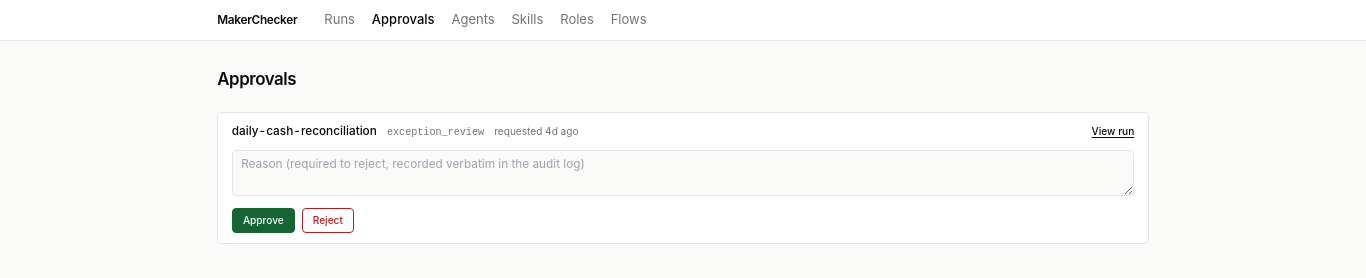
Scenario: ApprovalsPage › refuses to reject without a reason
Click the button "Reject".
click(328, 220)  # box [302, 208, 354, 233]
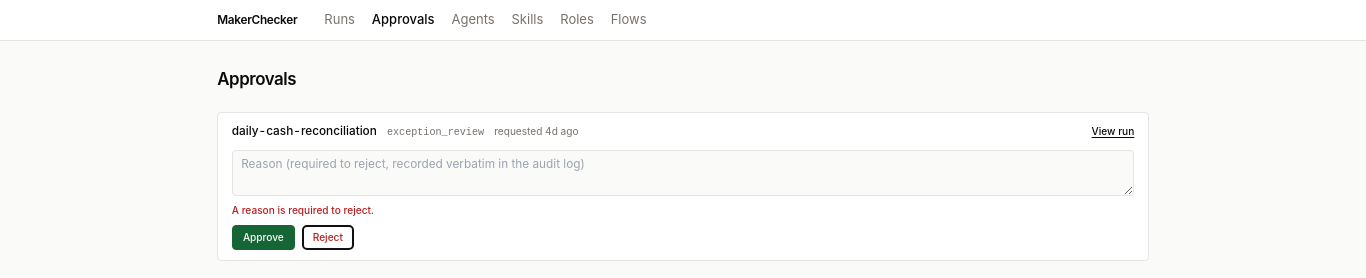
expect the text "A reason is required to reject." is shown: met, box [232, 204, 374, 216]
